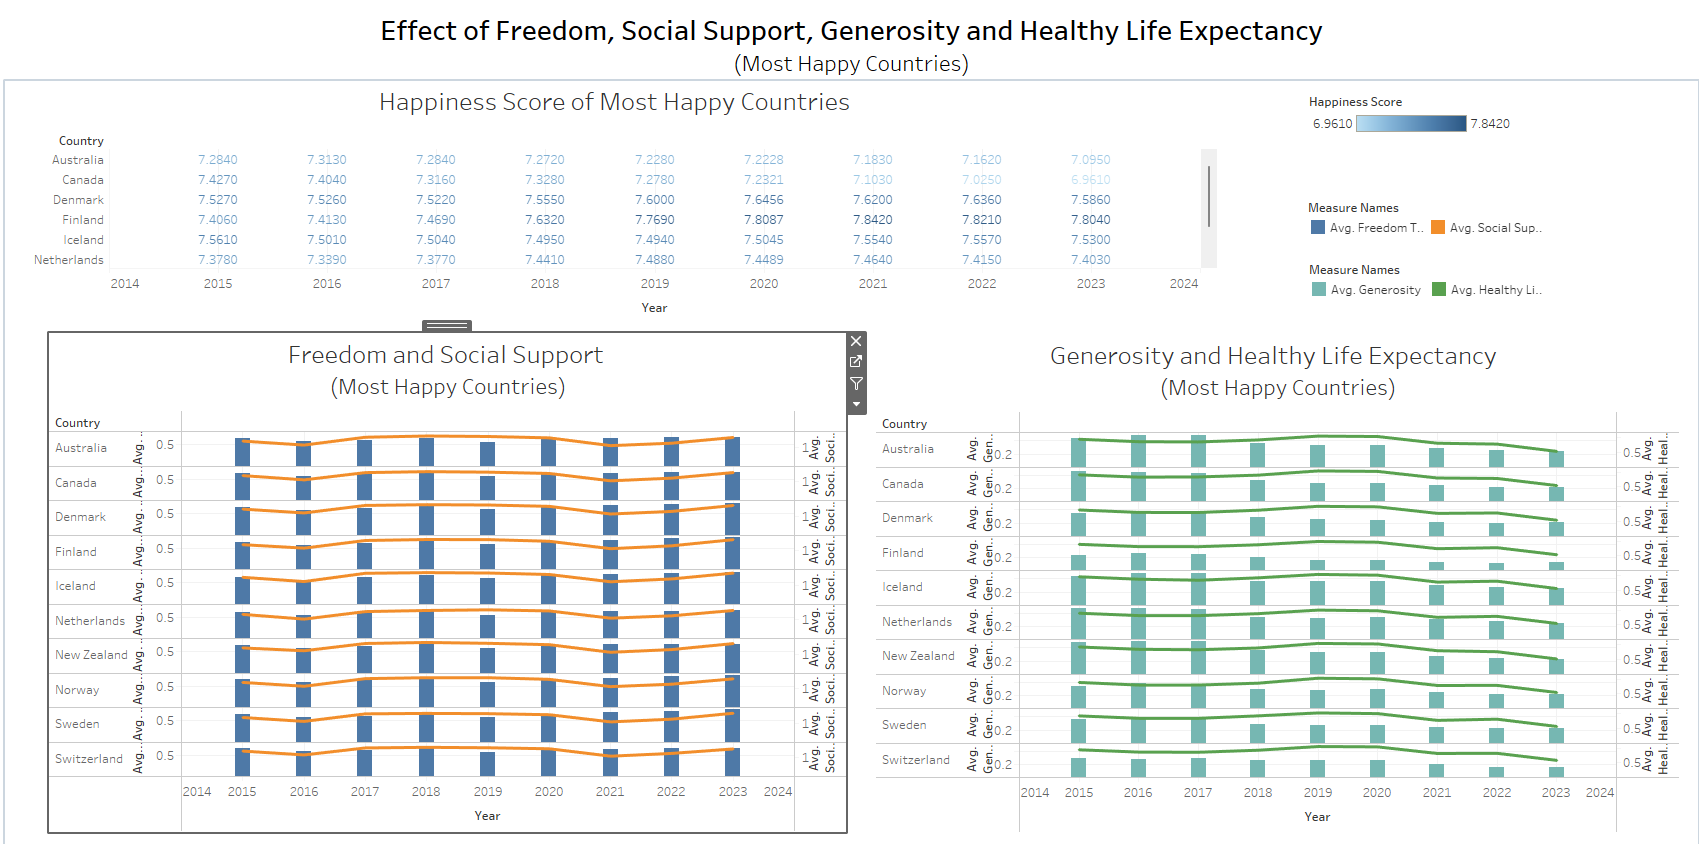

Layout of this report page (visuals, bound fields, positions):
{"tool":"tableau","page":{"name":"Other Factors Most Happy","canvas":[1000,1000],"units":"permille","ordinal":3},"visuals":[{"type":"title","box":[6.9,8,986.2,74]},{"type":"worksheet","title":"Top 10 Happy","mark":"Text","rows":["country"],"cols":["year"],"box":[18.9,95,695.1,284]},{"type":"legend","title":"Top 10 Happy","param":"[federated.1nnb5s81987nmd13ryej518t1e0h].[sum:happiness_score:qk]","box":[767.9,110,120.8,79]},{"type":"legend","title":"Freedom and Support","param":"[federated.1nnb5s81987nmd13ryej518t1e0h].[:Measure Names]","box":[767,234,192.4,58]},{"type":"legend","title":"Generosity and Life Expectancy","param":"[federated.1nnb5s81987nmd13ryej518t1e0h].[:Measure Names]","box":[767.9,306,163.1,58]},{"type":"worksheet","title":"Freedom and Support","mark":"Automatic","rows":["country","freedom_to_make_life_choices","social_support"],"cols":["year"],"box":[30.2,390,466.8,583]},{"type":"worksheet","title":"Generosity and Life Expectancy","mark":"Automatic","rows":["country","generosity","healthy_life_expectancy"],"cols":["year"],"box":[514.2,391,470.3,583]}]}

Visuals, with their boxes on the dashboard's canvas, which has no fixed pixel size, in thousandths of its width and height (x1, y1, x2, y2). These are canvas units, not pixel positions in the 1699x844 screenshot, which may show the page scaled, cropped or inside an application window:
title: box(7, 8, 993, 82)
"Top 10 Happy" worksheet (Text marks): box(19, 95, 714, 379)
"Top 10 Happy" legend: box(768, 110, 889, 189)
"Freedom and Support" legend: box(767, 234, 959, 292)
"Generosity and Life Expectancy" legend: box(768, 306, 931, 364)
"Freedom and Support" worksheet: box(30, 390, 497, 973)
"Generosity and Life Expectancy" worksheet: box(514, 391, 984, 974)
